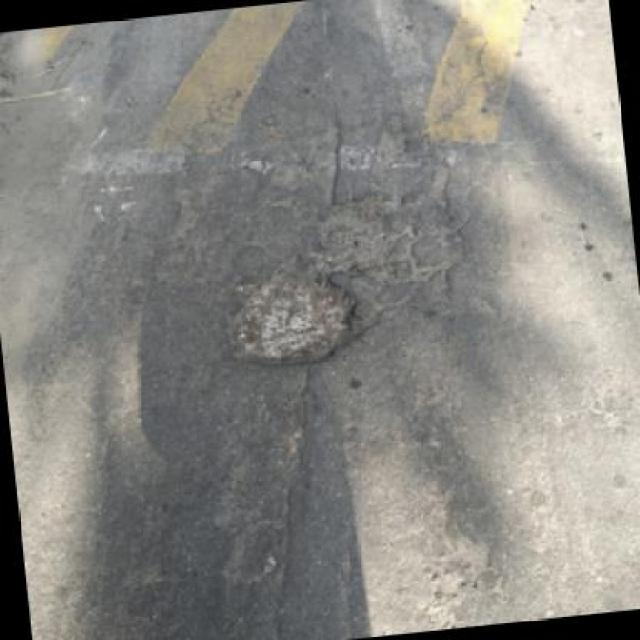pothole1: (212, 257, 368, 375), (306, 189, 406, 276)
